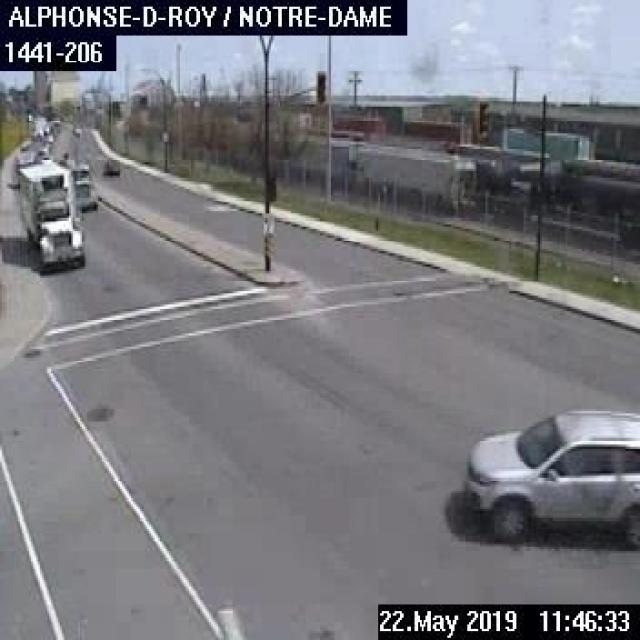vehicle: (458, 405, 638, 551), (16, 158, 89, 269), (67, 158, 96, 214), (100, 156, 118, 178)
